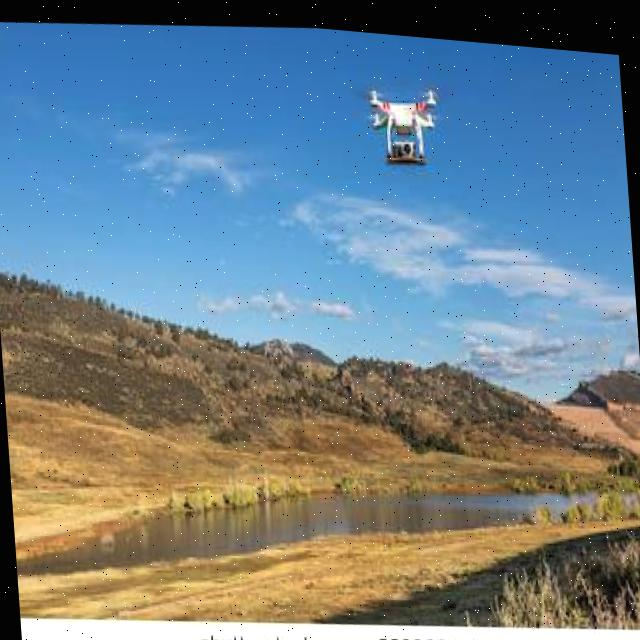drone: (352, 63, 462, 172)
